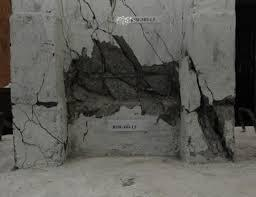spalling: (65, 36, 179, 125), (194, 95, 234, 158), (36, 101, 58, 108)
